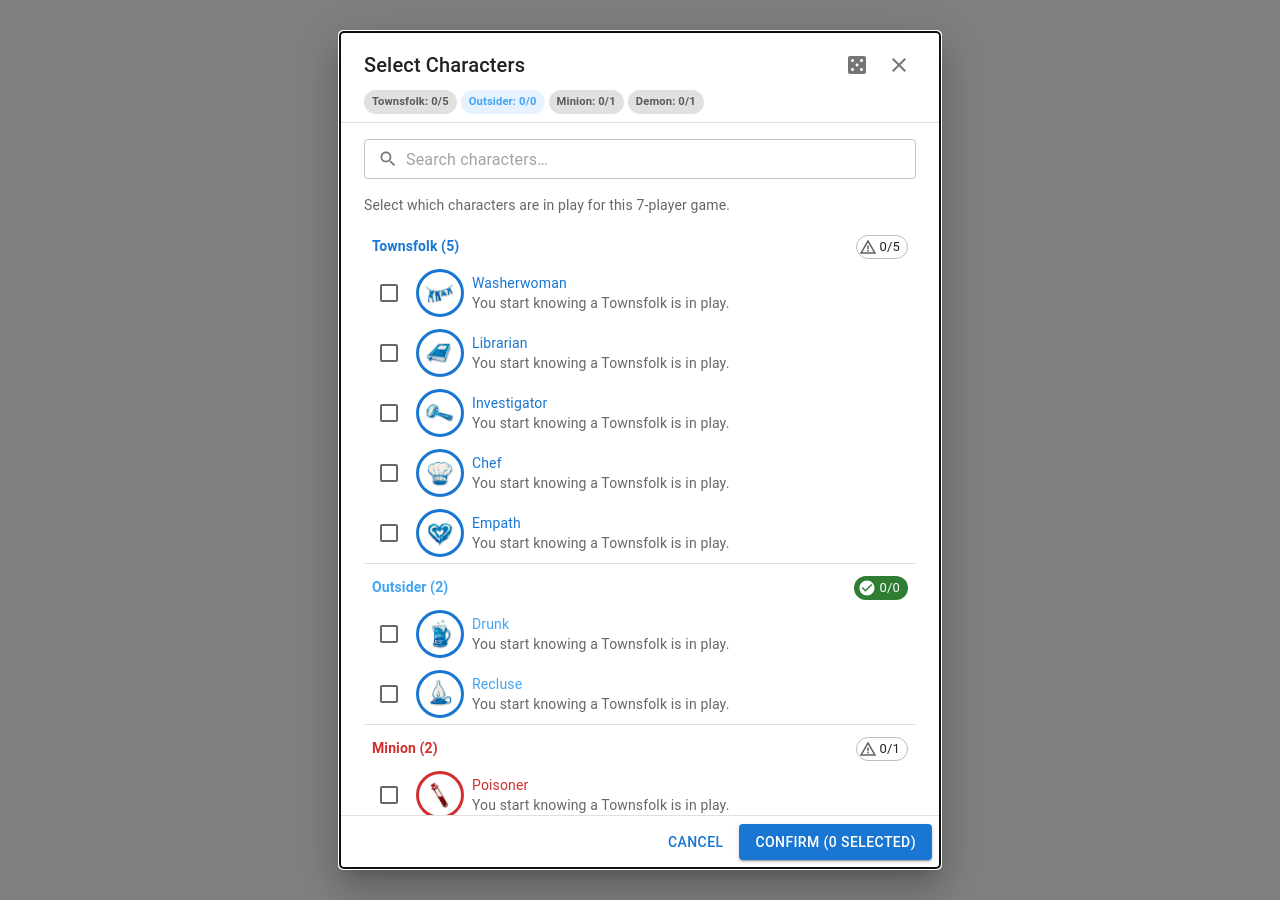
CharacterSelection › updates distribution chip when selections match targets
// Select 1 minion
Click the button with test id "char-toggle-poisoner" at (553, 795), box [377, 771, 730, 819]
(page scrolled)
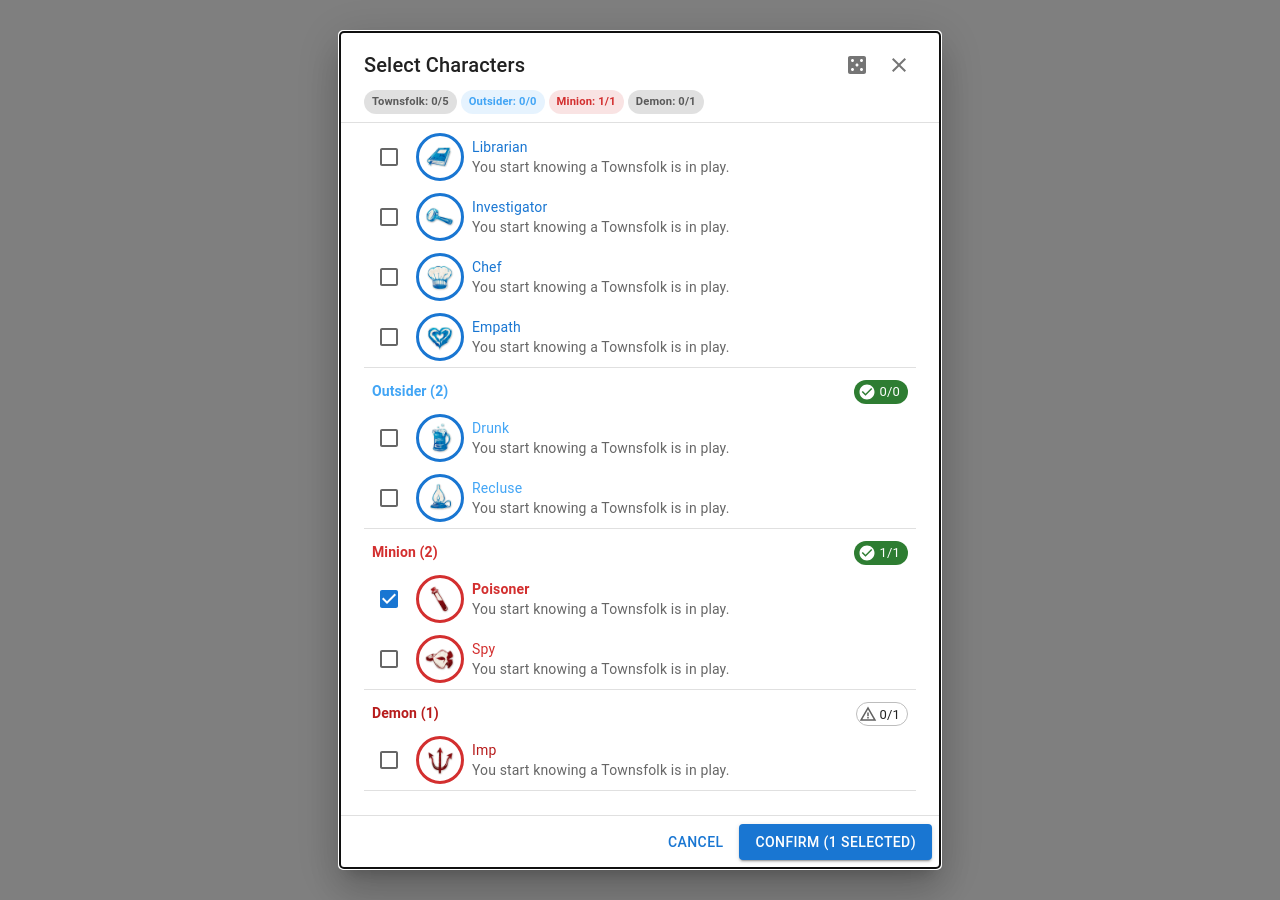
Check: the element with test id "summary-chip-Minion" reads "Minion: 1/1", box [557, 95, 616, 108]
// Select 1 demon
Click the button with test id "char-toggle-imp" at (553, 760), box [377, 736, 730, 784]
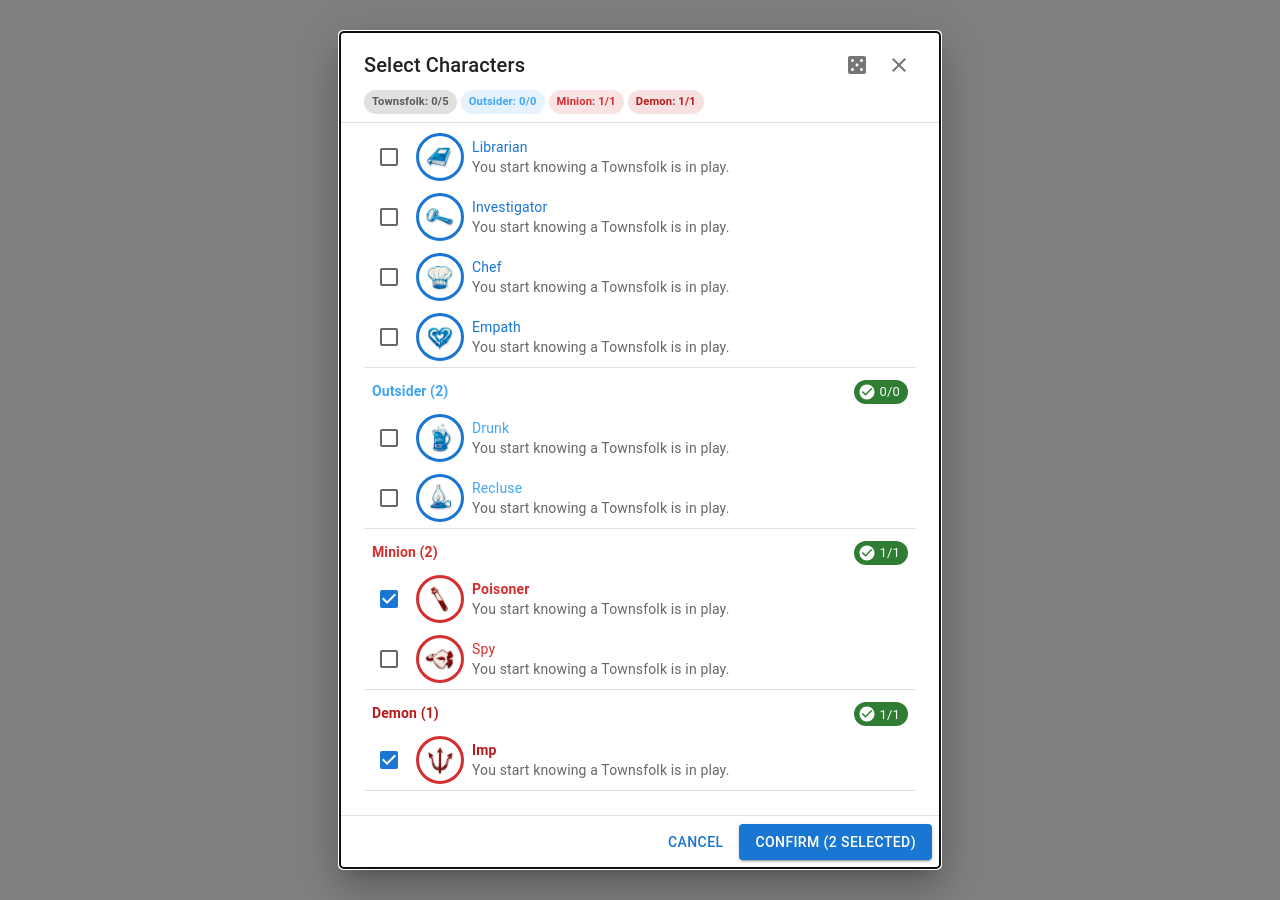
Check: the element with test id "summary-chip-Demon" reads "Demon: 1/1", box [636, 95, 696, 108]
